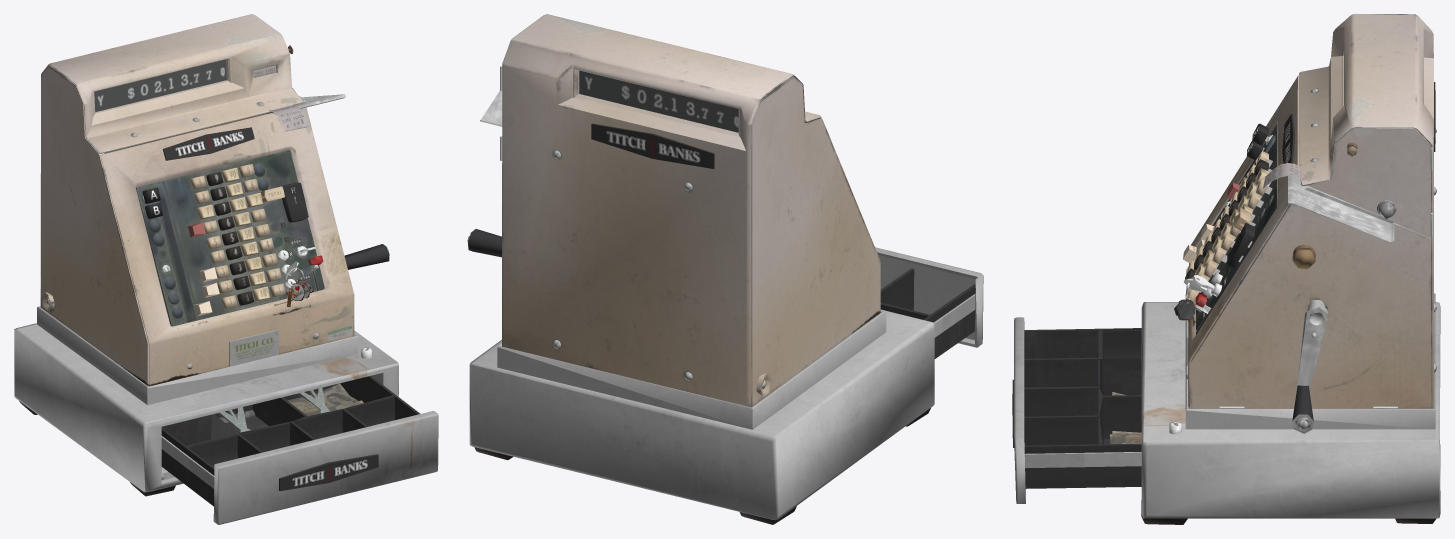
Rendered from CashRegisterVintage.obj.
3 views of the same model, side by side, from view 1: azimuth 30°, elevation 25°; view 2: azimuth 150°, elevation 25°; view 3: azimuth 270°, elevation 25° (orthographic). The views are drawn at different scales.
Parts seen in each view (by area): view 1: Register, Glass; view 2: Register, Glass; view 3: Register.
Part boxes in pixels (<box>): Register: <box>14,14,438,524</box>; Glass: <box>95,60,276,112</box>; Register: <box>467,14,983,524</box>; Glass: <box>578,71,737,133</box>; Register: <box>1012,14,1440,524</box>.
Size of the model in its own units: 0.5996 by 0.6214 by 0.6242.
2 materials, 1 textured.
